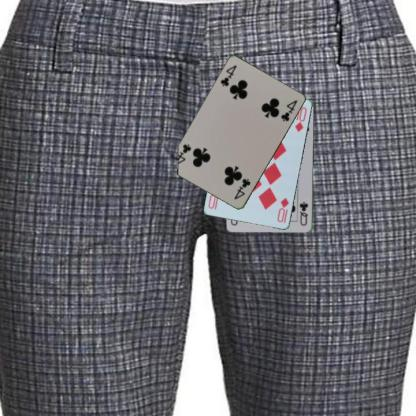10d: (275, 195, 290, 224)
4c: (232, 176, 252, 201), (218, 63, 238, 88)
Qc: (297, 199, 309, 227)
